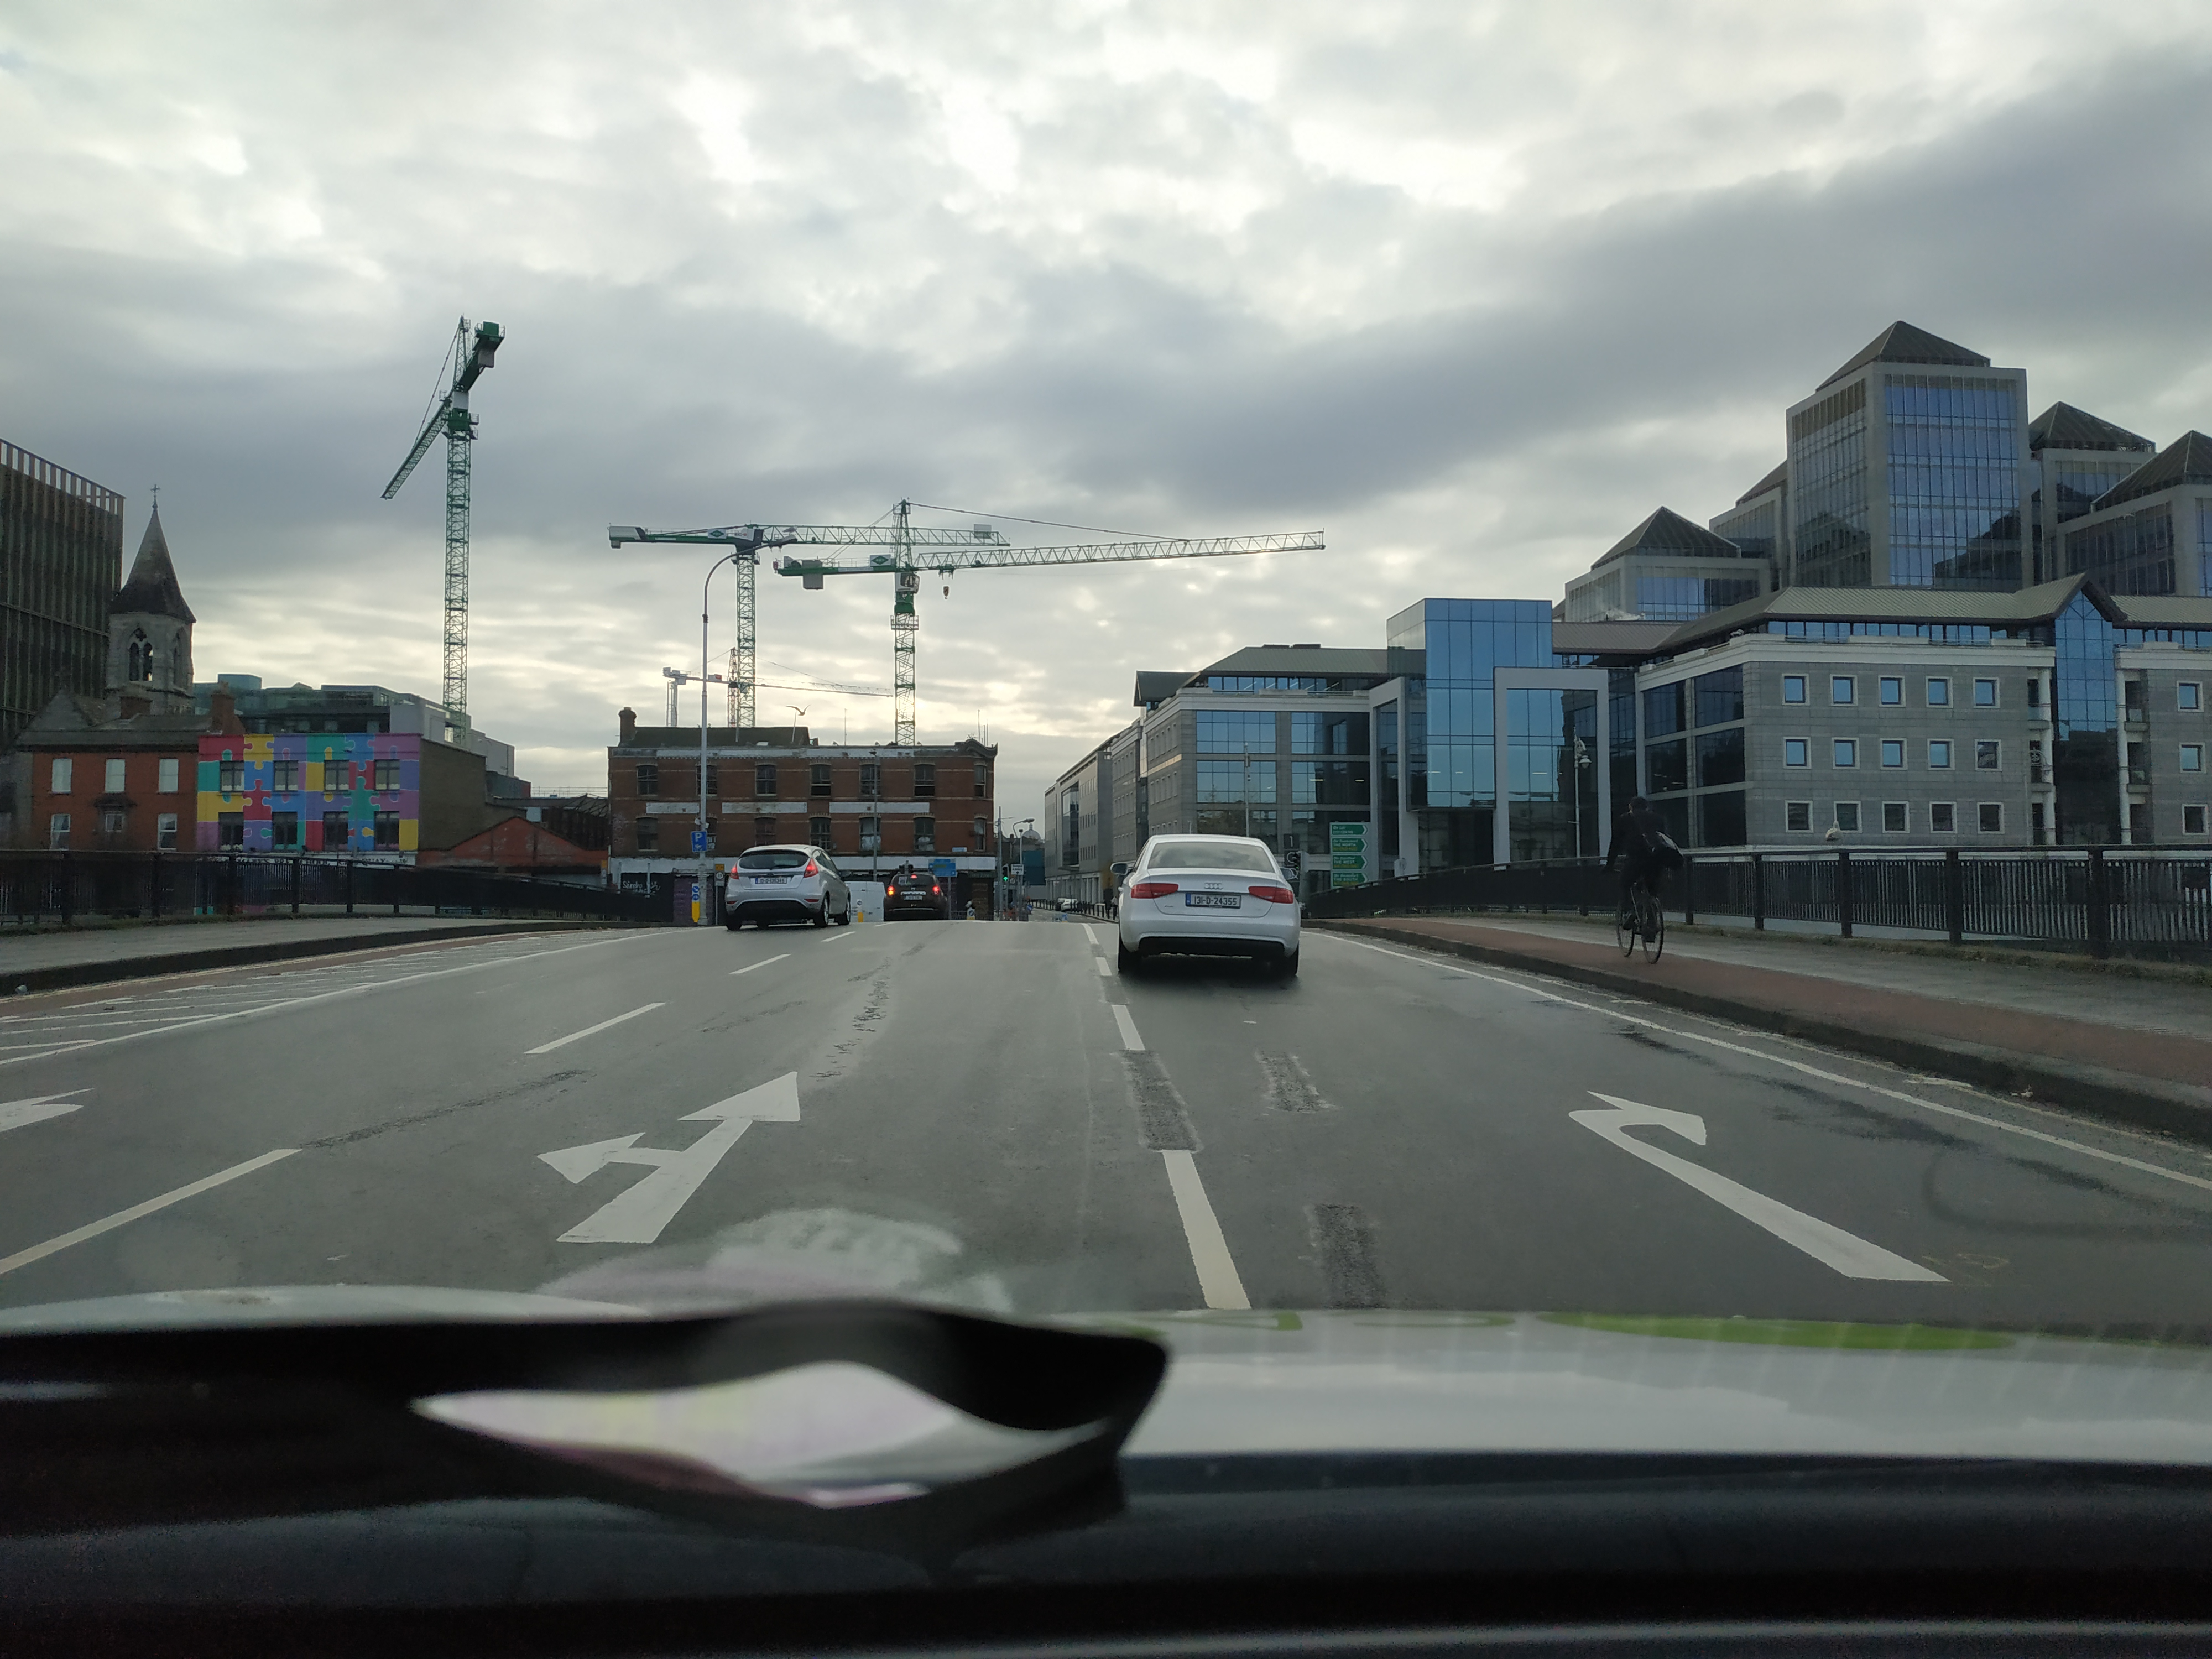Bicycle: (1601, 861, 1663, 964)
Car: (1109, 831, 1300, 979), (723, 844, 853, 931), (883, 870, 950, 923)
Person: (1605, 796, 1667, 941)
